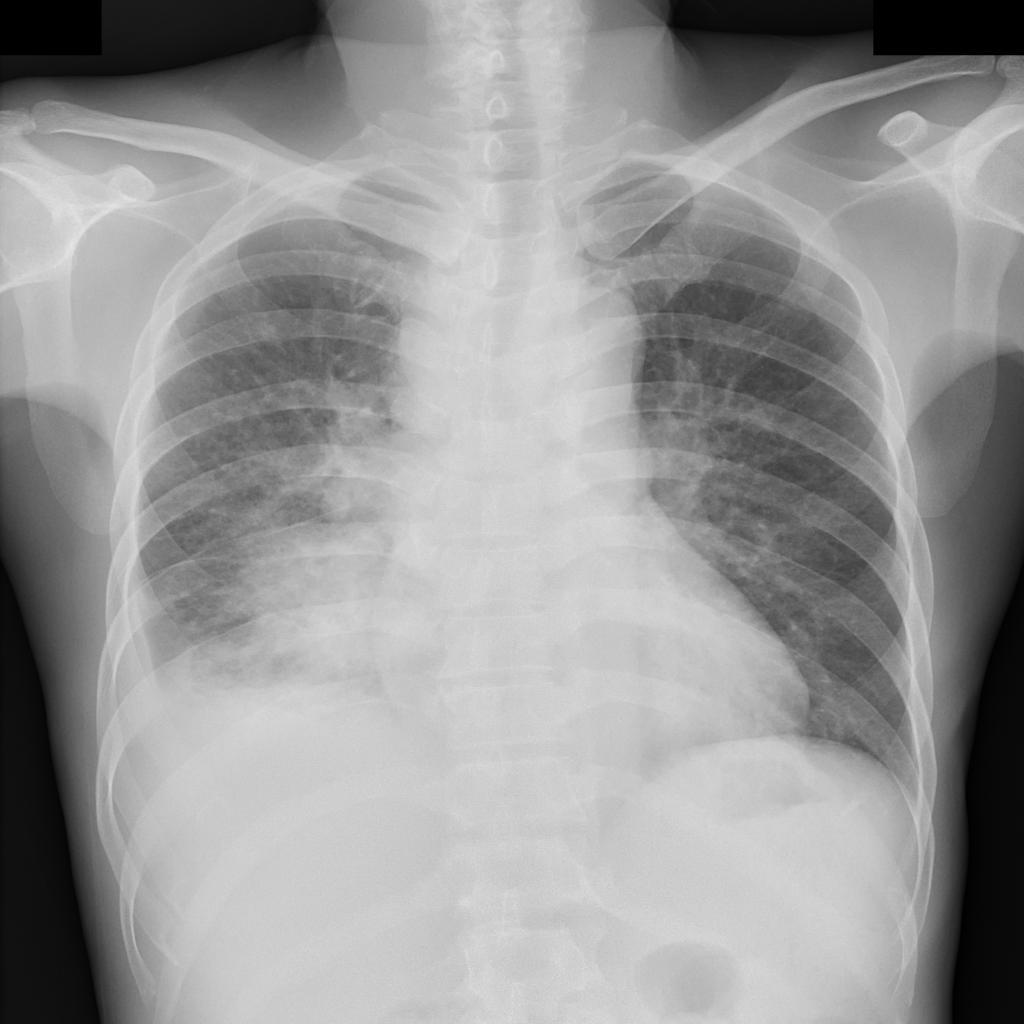Nodule: (229, 527, 416, 680)
